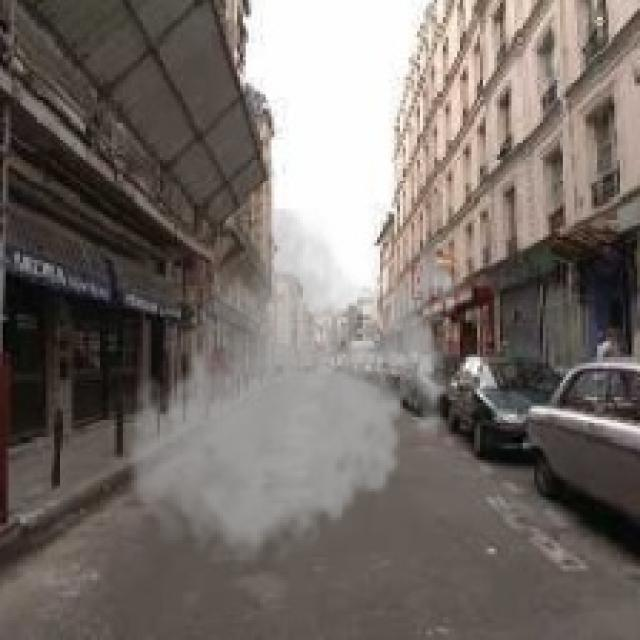Smoke: (120, 208, 469, 572)
